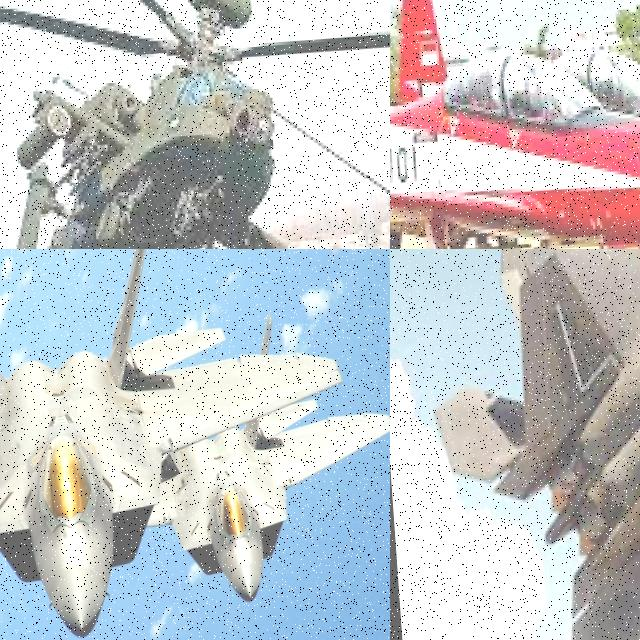Apache: (0, 0, 390, 249)
F22: (0, 249, 358, 640), (414, 249, 640, 640), (94, 393, 390, 612)
KT-1: (390, 0, 640, 249)
